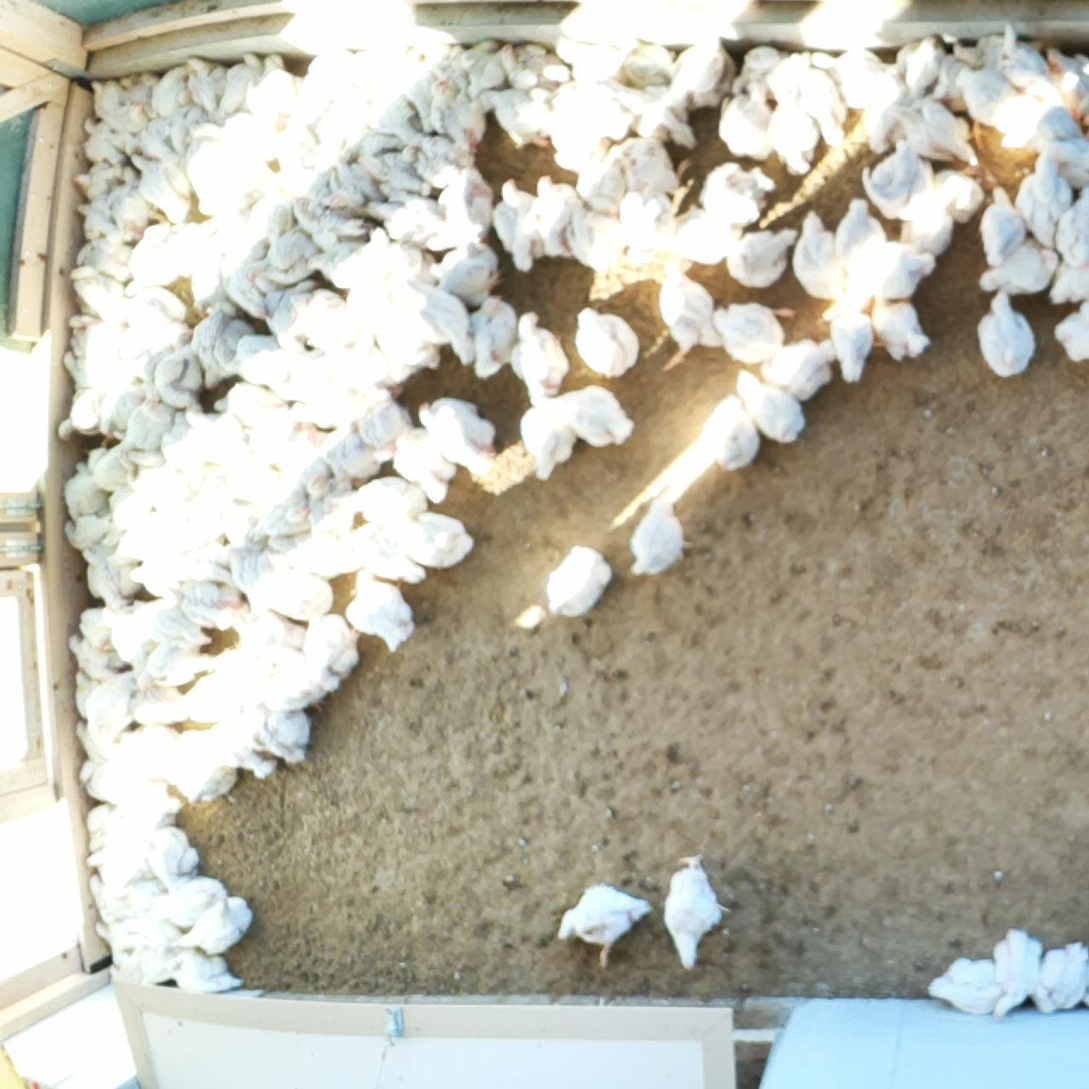chicken: (642, 265, 727, 379), (824, 243, 936, 322), (659, 854, 733, 970), (556, 883, 654, 968), (897, 170, 987, 258), (887, 95, 981, 168), (341, 568, 419, 652), (417, 397, 498, 476), (515, 174, 579, 273), (488, 177, 552, 276), (858, 137, 931, 222), (732, 364, 810, 443), (122, 218, 201, 295), (508, 307, 570, 405), (318, 347, 393, 428), (184, 215, 243, 316), (628, 494, 696, 580), (694, 161, 775, 233), (192, 301, 258, 388), (252, 553, 335, 622), (344, 520, 432, 585), (984, 927, 1046, 1019), (808, 44, 894, 109), (713, 300, 796, 367), (789, 210, 850, 301), (544, 543, 615, 621), (428, 236, 503, 309), (665, 34, 736, 110), (553, 108, 636, 173), (975, 291, 1037, 378), (1021, 146, 1075, 245), (948, 63, 1022, 135), (409, 280, 471, 365), (250, 643, 331, 708), (978, 236, 1062, 298), (518, 395, 578, 481), (169, 727, 236, 804), (566, 197, 632, 275), (618, 187, 680, 270), (760, 337, 839, 402), (925, 955, 1007, 1017), (728, 225, 805, 291), (463, 296, 522, 381), (618, 86, 697, 149), (833, 194, 888, 284), (479, 85, 555, 150), (558, 384, 635, 448), (392, 422, 452, 504), (213, 235, 271, 319), (700, 393, 762, 471), (377, 316, 445, 387), (865, 290, 931, 363), (268, 529, 360, 581), (114, 285, 189, 348), (575, 304, 640, 376), (827, 290, 876, 385), (402, 510, 479, 570), (974, 30, 1051, 89), (173, 895, 255, 950), (717, 81, 774, 160), (252, 696, 315, 767), (289, 344, 347, 421), (107, 722, 181, 782), (292, 287, 359, 353), (854, 81, 912, 157), (236, 346, 313, 403), (1032, 940, 1089, 1017), (150, 876, 228, 932), (666, 202, 735, 265), (437, 162, 492, 241), (241, 231, 317, 288), (130, 596, 210, 650), (341, 475, 429, 524), (218, 602, 306, 651), (184, 141, 243, 214), (137, 641, 218, 694), (86, 666, 141, 744), (204, 723, 279, 780), (264, 277, 321, 351), (106, 772, 181, 828), (170, 576, 247, 630), (768, 98, 821, 176), (979, 184, 1030, 265), (799, 64, 850, 145), (574, 135, 625, 215), (185, 667, 255, 725), (97, 605, 160, 669), (615, 135, 680, 196), (114, 396, 180, 456), (134, 153, 192, 221), (111, 336, 167, 405), (154, 342, 206, 414), (1043, 43, 1089, 124), (182, 404, 245, 463), (384, 200, 453, 253), (249, 486, 312, 544), (61, 459, 116, 525), (169, 947, 243, 996), (308, 613, 363, 678), (928, 50, 984, 113), (246, 54, 301, 118), (895, 33, 949, 98), (501, 40, 571, 90), (353, 397, 413, 455), (734, 46, 791, 107), (70, 268, 131, 325), (286, 456, 347, 513), (68, 634, 136, 685), (211, 379, 283, 427), (221, 334, 287, 386), (221, 541, 277, 602), (55, 388, 117, 443), (219, 451, 287, 501), (557, 35, 622, 87), (78, 603, 131, 666), (219, 51, 267, 120), (148, 825, 199, 889), (286, 193, 344, 249), (391, 238, 449, 294), (342, 279, 400, 335), (324, 426, 382, 482), (136, 921, 185, 987), (127, 677, 191, 727), (1051, 182, 1089, 266), (1018, 78, 1072, 137), (69, 236, 134, 285), (111, 519, 185, 562), (130, 551, 200, 596), (79, 544, 128, 608), (553, 81, 621, 127), (183, 54, 233, 116), (307, 238, 370, 287), (216, 493, 269, 551), (1041, 134, 1089, 198), (197, 641, 263, 687), (358, 225, 409, 284), (180, 485, 227, 549), (92, 435, 141, 496), (461, 41, 515, 95), (325, 155, 384, 204), (86, 873, 145, 922), (108, 813, 156, 873), (323, 198, 388, 242), (769, 48, 815, 110), (623, 39, 678, 90), (394, 78, 443, 135), (1041, 249, 1089, 307), (118, 876, 176, 924), (1029, 106, 1089, 152), (248, 402, 299, 456), (133, 456, 184, 510), (1050, 300, 1089, 368), (160, 430, 211, 482), (60, 345, 117, 391), (71, 313, 128, 359), (177, 537, 231, 585), (105, 947, 157, 996), (317, 92, 370, 140), (224, 107, 267, 166), (83, 804, 121, 870), (366, 93, 418, 141), (63, 511, 119, 555), (427, 78, 468, 138), (345, 46, 397, 93), (93, 918, 151, 960), (152, 60, 192, 120), (165, 88, 204, 149), (286, 423, 330, 477), (104, 192, 153, 240), (276, 161, 331, 203), (70, 719, 118, 767), (183, 117, 239, 158), (385, 145, 430, 196), (111, 125, 173, 162), (102, 547, 146, 599), (300, 45, 354, 87), (71, 162, 126, 203), (81, 117, 126, 167), (253, 188, 296, 240), (74, 757, 121, 804), (70, 669, 112, 721), (357, 131, 403, 178), (409, 148, 463, 188), (289, 84, 337, 129), (262, 119, 305, 168), (451, 90, 489, 145), (142, 105, 183, 155), (416, 135, 477, 168), (302, 131, 351, 172), (229, 161, 282, 198), (108, 165, 151, 210), (205, 212, 252, 251), (398, 46, 438, 91), (108, 483, 149, 524), (75, 201, 115, 240), (106, 101, 151, 135), (119, 74, 158, 111), (88, 76, 119, 120), (430, 40, 462, 82)
